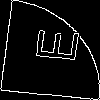E: (25, 24, 80, 65)
